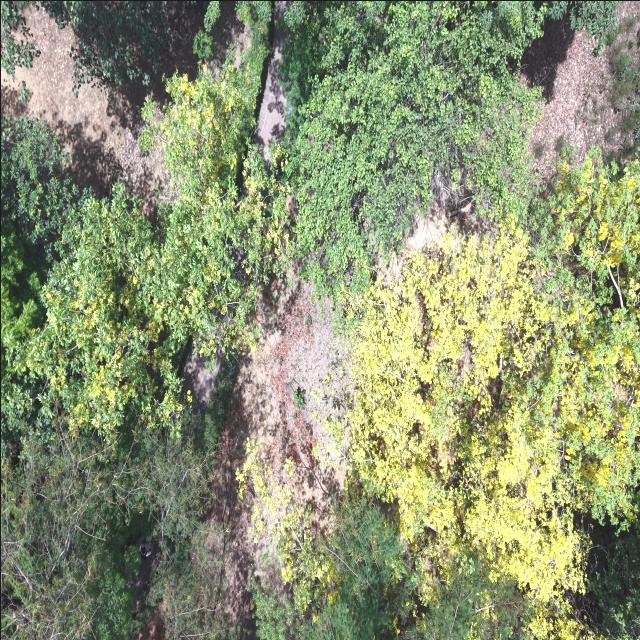DRY_AREA: (206, 277, 347, 639), (212, 276, 349, 639), (214, 278, 348, 639), (212, 280, 345, 639), (212, 278, 344, 639), (212, 281, 345, 639), (210, 280, 342, 639), (211, 279, 342, 639), (212, 280, 341, 639), (216, 282, 344, 638), (213, 282, 341, 638), (218, 283, 345, 638), (217, 278, 346, 614), (1, 1, 202, 208), (1, 1, 202, 205), (1, 1, 200, 205), (1, 1, 199, 206), (1, 9, 164, 206), (1, 9, 164, 198), (1, 9, 163, 197), (224, 277, 344, 511), (244, 279, 344, 495), (1, 9, 133, 172), (519, 19, 622, 182), (520, 19, 622, 181), (521, 20, 622, 176), (521, 19, 621, 176), (522, 20, 616, 170), (209, 376, 255, 639), (377, 202, 466, 282), (253, 1, 286, 161), (254, 1, 287, 158), (609, 1, 639, 162), (521, 19, 575, 102), (207, 1, 251, 78), (183, 345, 223, 410), (403, 208, 446, 253), (138, 611, 165, 639)
VEGETATION_TREE: (1, 1, 639, 639), (240, 4, 639, 639), (1, 23, 287, 639), (335, 153, 639, 638), (17, 35, 286, 441), (1, 187, 217, 639), (283, 1, 544, 300), (9, 186, 245, 446), (141, 24, 289, 353), (1, 418, 220, 639), (1, 117, 77, 456), (255, 488, 414, 639), (1, 1, 181, 91), (1, 1, 169, 90), (41, 1, 169, 89), (577, 525, 639, 639), (608, 15, 639, 158), (548, 1, 618, 49), (1, 1, 40, 79), (1, 1, 39, 78), (193, 1, 220, 58)
